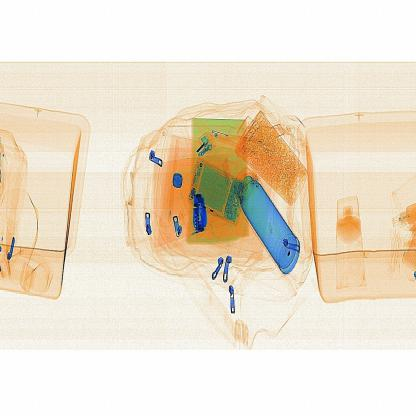scissors: (185, 185, 210, 241)
